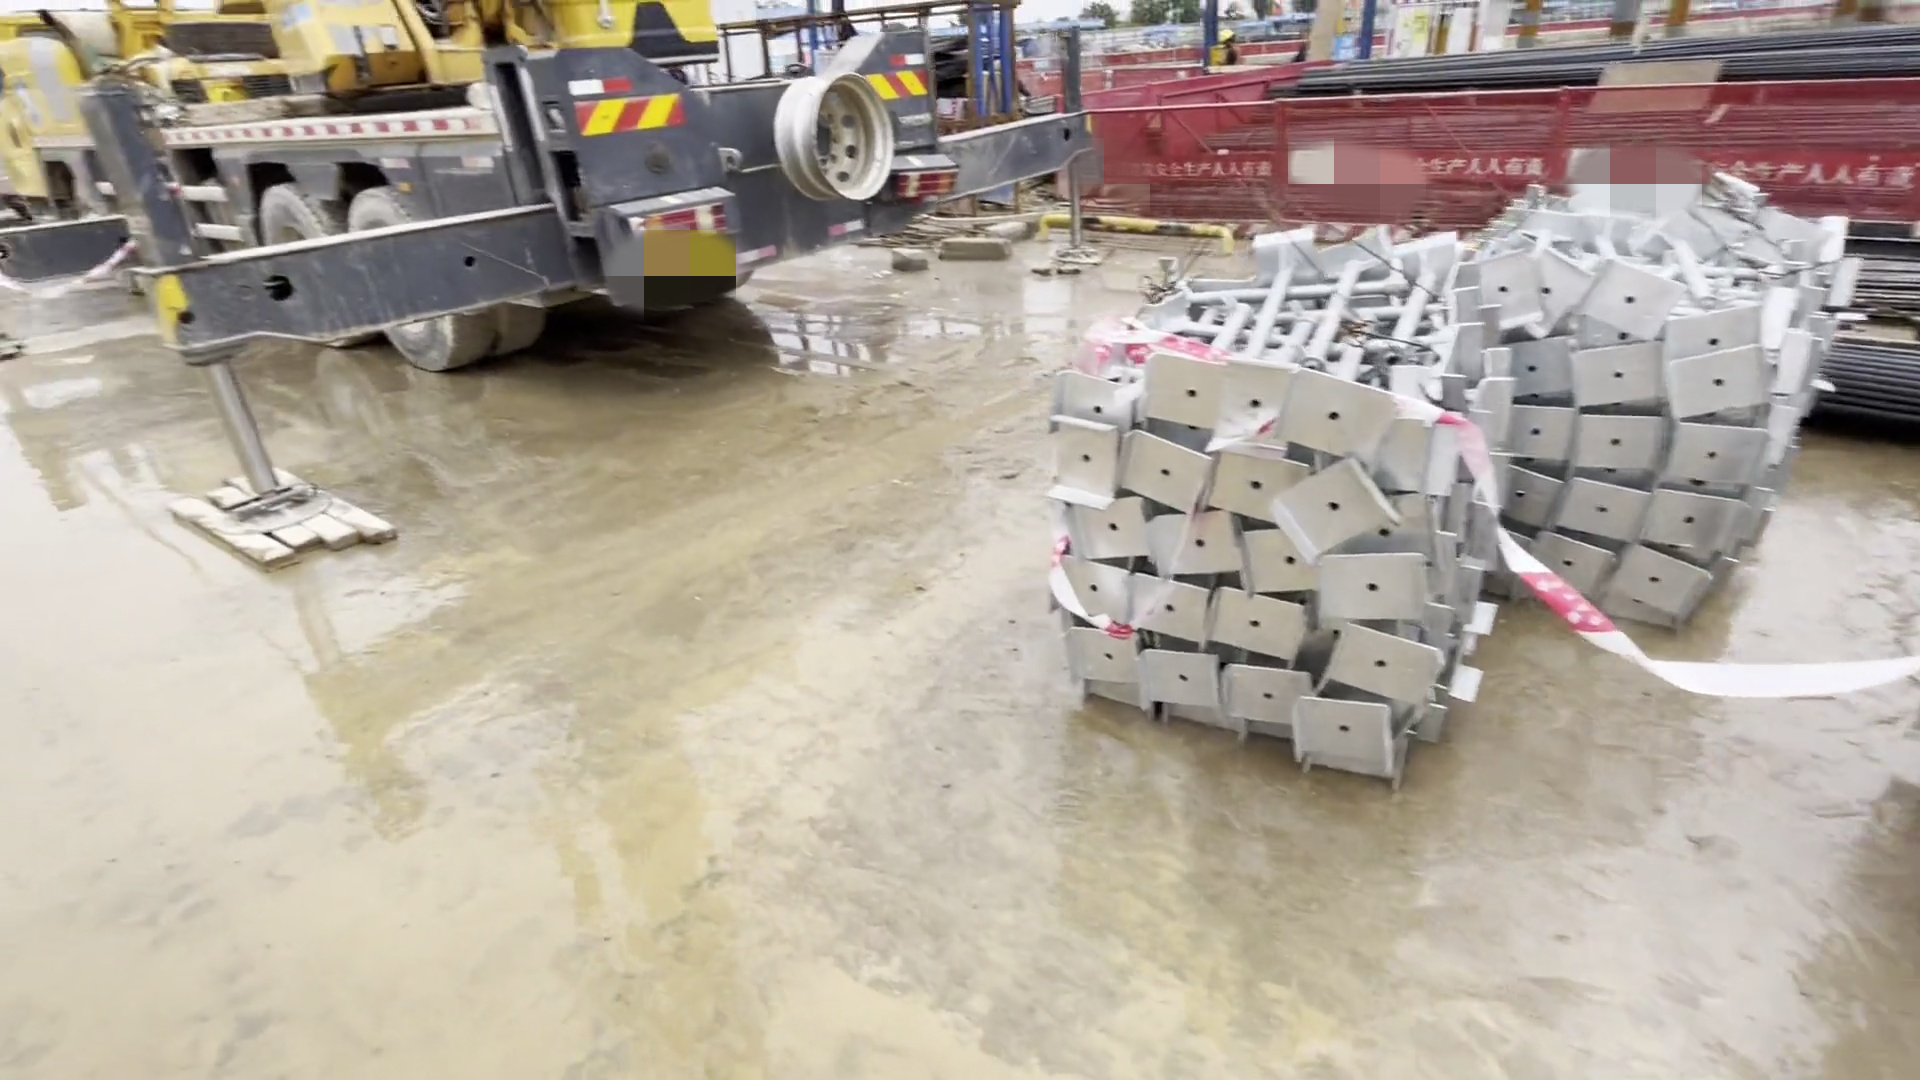fence: (1060, 84, 1908, 264)
